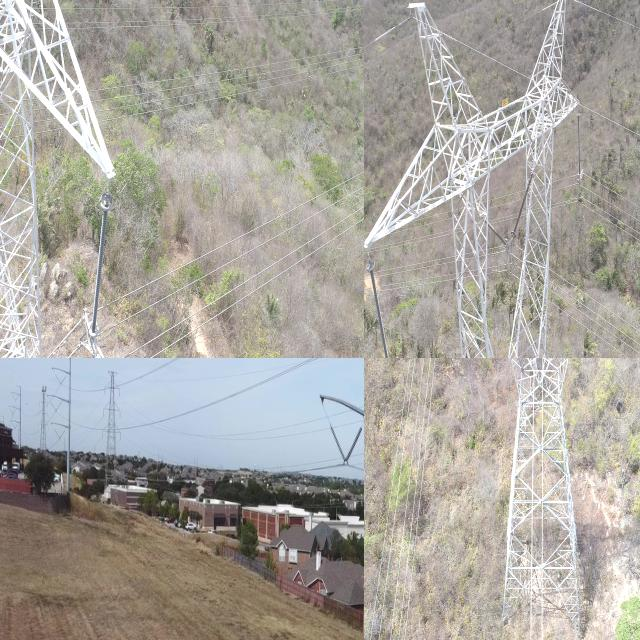杆塔: (366, 0, 583, 358), (416, 358, 640, 640), (0, 0, 132, 358), (98, 361, 126, 504)
正常绝缘子: (89, 183, 111, 358), (365, 251, 395, 358), (510, 169, 536, 239), (479, 212, 508, 249), (329, 423, 351, 467), (341, 426, 363, 467), (576, 112, 582, 175)
